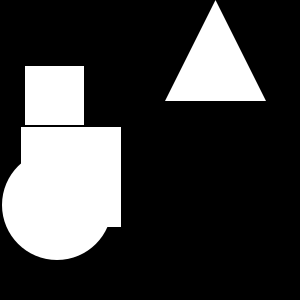circle: (21, 127, 121, 227), (25, 66, 84, 125)
rectangle: (2, 150, 112, 260)
triangle: (165, 0, 266, 101)
